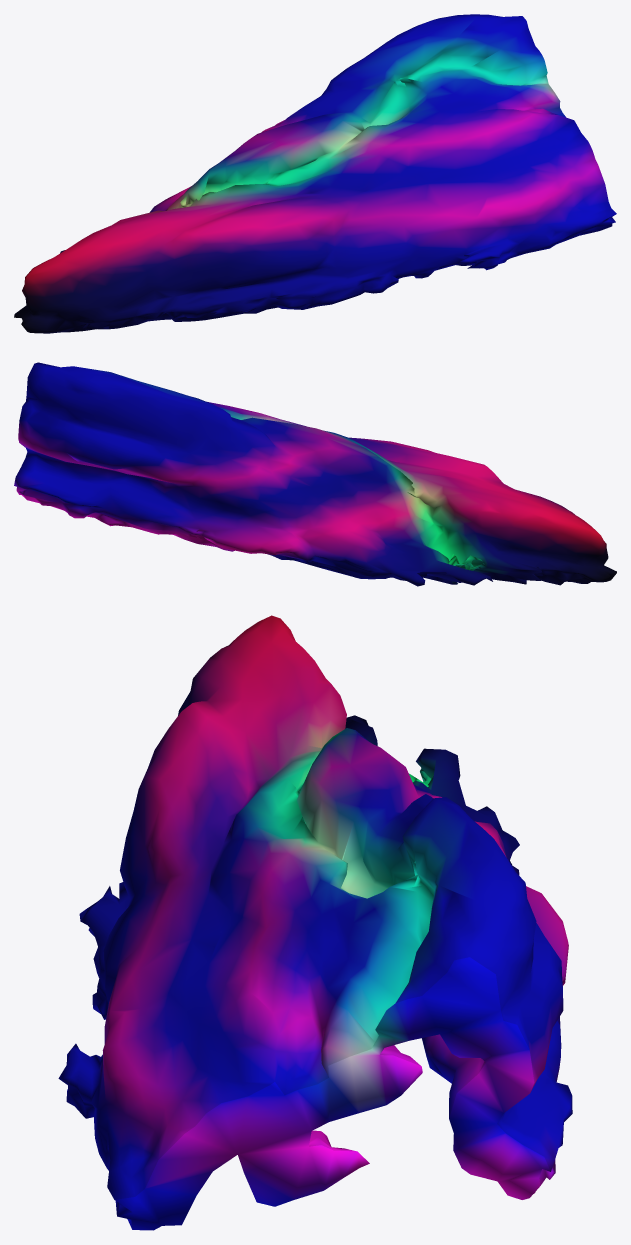
File: copper_vein-u6-cracked-lod0.gltf
The picture shows the model from 3 angles, top to bottom: view 1: azimuth 30°, elevation 25°; view 2: azimuth 150°, elevation 25°; view 3: azimuth 270°, elevation 25°; orthographic projection. The views are drawn at different scales.
Parts seen in each view (by area): view 1: copper_vein-u6-cracked-lod0; view 2: copper_vein-u6-cracked-lod0; view 3: copper_vein-u6-cracked-lod0.
Part boxes in pixels (x1,y1,x2,y2): copper_vein-u6-cracked-lod0: [14, 14, 616, 333]; copper_vein-u6-cracked-lod0: [14, 362, 616, 586]; copper_vein-u6-cracked-lod0: [58, 615, 572, 1230].
Size of the model in its own units: 1.85 by 0.4884 by 0.78.
